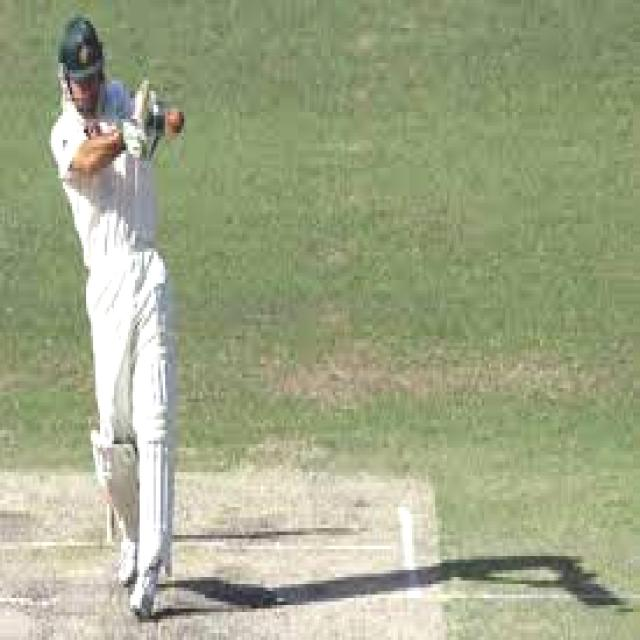toe: (155, 100, 167, 136)
